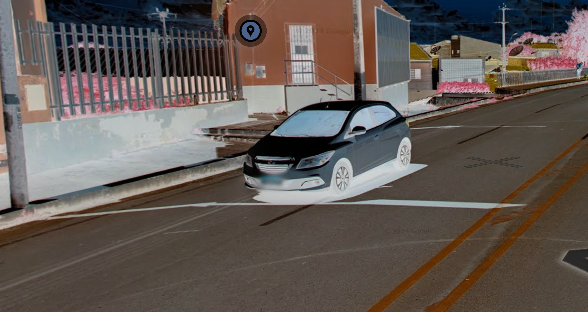car: (241, 93, 417, 208)
